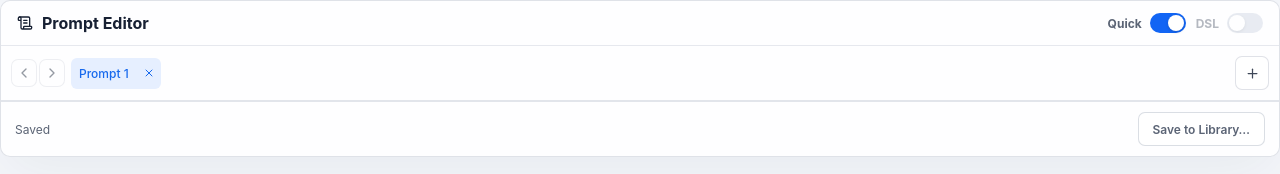
Test: switches tabs with arrows and disables navigation at the ends
The image size is (1280, 174).
Check: the tab "Prompt 1" is shown, box [71, 58, 137, 88]
Check: the button named "Previous Quick prompt" is disabled, box [11, 59, 37, 87]
Click the button named "Add Quick prompt" at (1252, 73), box [1235, 56, 1269, 90]
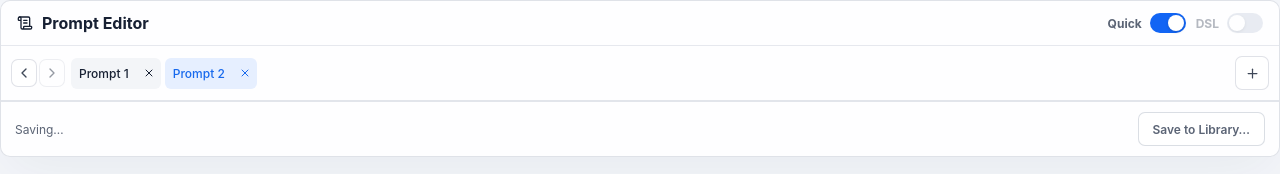
Check: the button named "Next Quick prompt" is disabled, box [39, 59, 65, 87]
Check: the button named "Previous Quick prompt" is enabled
Click the button named "Previous Quick prompt" at (24, 73), box [11, 59, 37, 87]
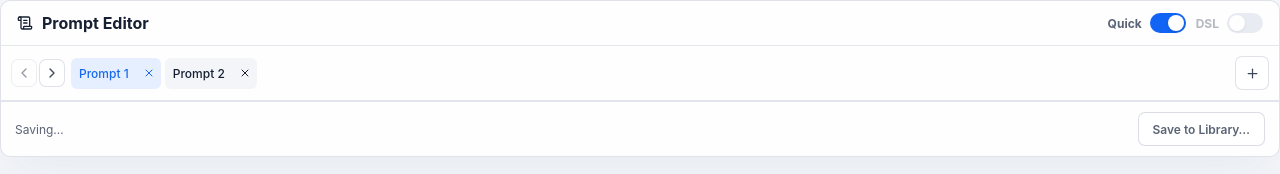
Check: the button named "Previous Quick prompt" is disabled, box [11, 59, 37, 87]
Click the button named "Next Quick prompt" at (52, 73), box [39, 59, 65, 87]
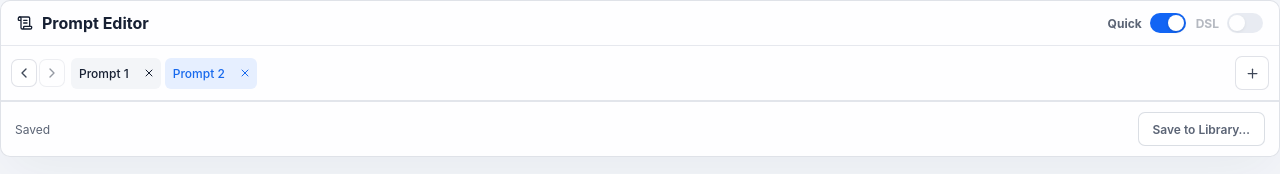
Check: the message reads "Saved", box [15, 122, 50, 136]
